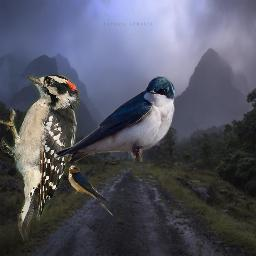Swallow: (53, 76, 176, 162), (68, 165, 113, 216)
Woodpecker: (0, 75, 82, 241)
